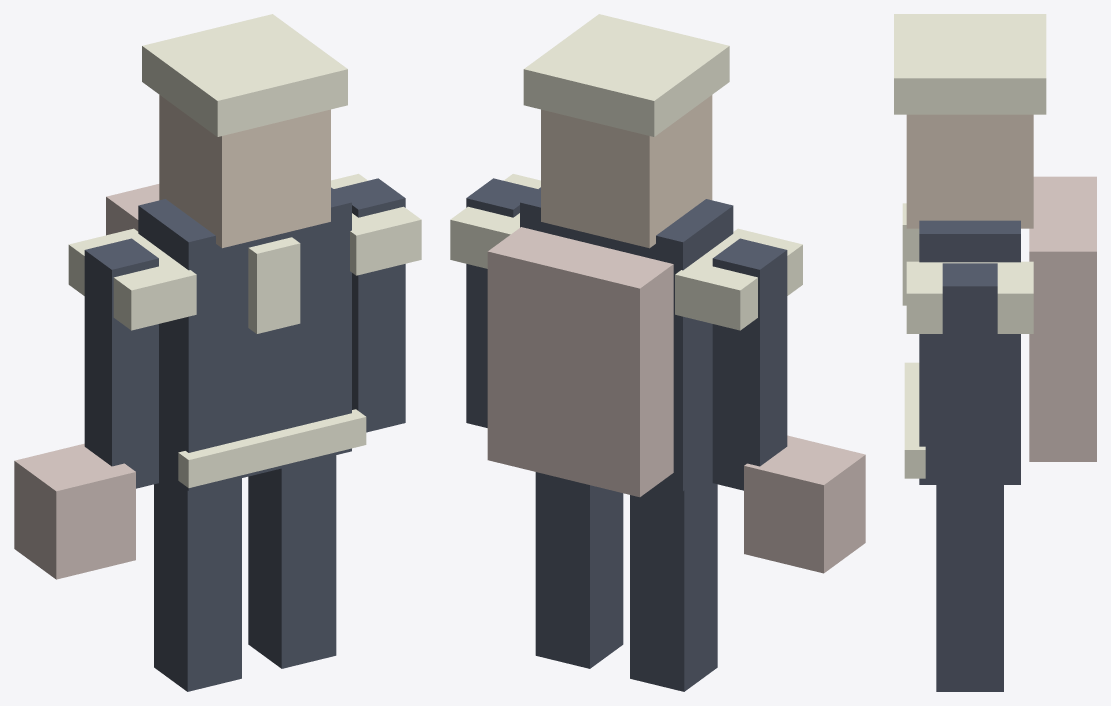
Rendered from 19_luma_cinderholt_specialist_from_quantum.glb.
3 views of the same model, side by side, from view 1: azimuth 30°, elevation 25°; view 2: azimuth 150°, elevation 25°; view 3: azimuth 270°, elevation 25° (orthographic).
Visible parts, largest first — view 1: Luma Cinderholt, Specialist from Quantum; view 2: Luma Cinderholt, Specialist from Quantum; view 3: Luma Cinderholt, Specialist from Quantum.
Part boxes in pixels (x1,y1,x2,y2): Luma Cinderholt, Specialist from Quantum: (14,14,421,691); Luma Cinderholt, Specialist from Quantum: (450,14,865,691); Luma Cinderholt, Specialist from Quantum: (894,14,1096,691).
Size of the model in its own units: 0.9334 by 1.49 by 0.4503.
